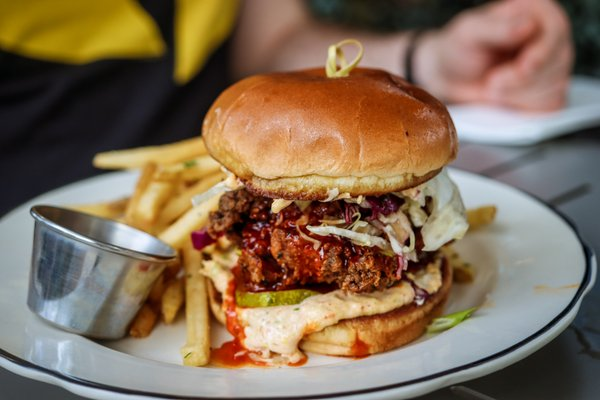soup: (193, 55, 475, 361)
